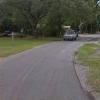Tree: (12, 2, 54, 33)
